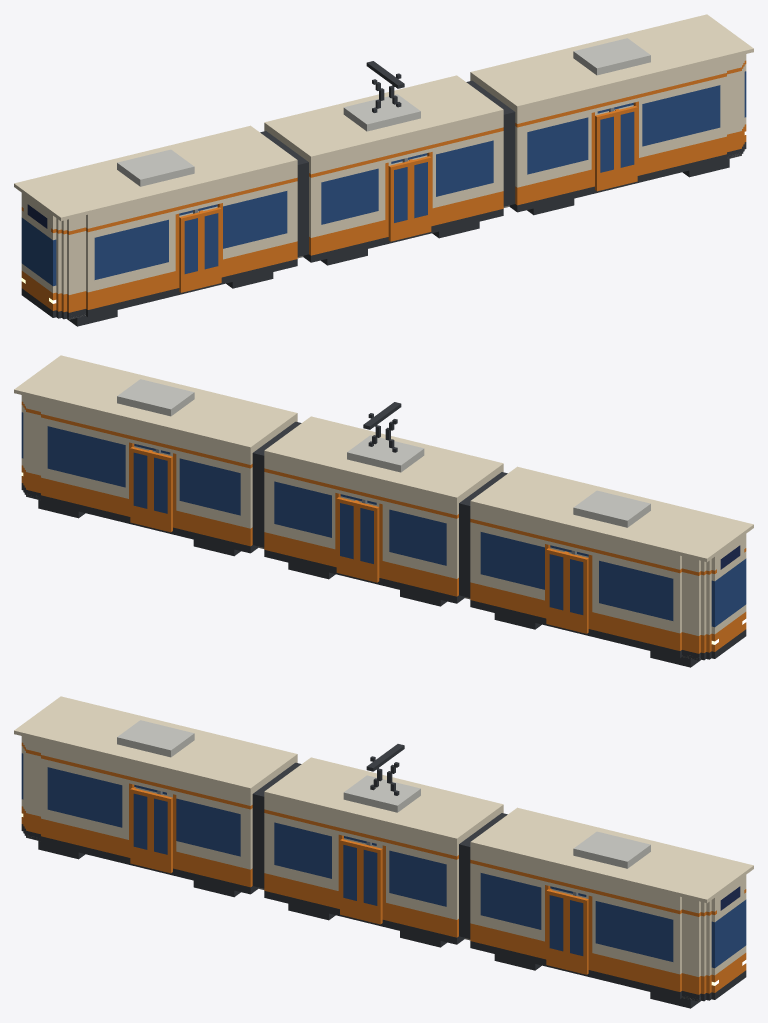
Rendered from tram.glb.
The picture shows the model from 3 angles, top to bottom: view 1: azimuth 30°, elevation 25°; view 2: azimuth 150°, elevation 25°; view 3: azimuth 330°, elevation 25°; orthographic projection.
Parts seen in each view (by area): view 1: body, roof, door_right_0_aft, door_right_2_aft, door_right_1_aft, door_right_1_fore, door_right_2_fore, door_right_0_fore; view 2: body, roof, door_left_0_aft, door_left_2_aft, door_left_1_aft, door_left_1_fore, door_left_2_fore, door_left_0_fore; view 3: body, roof, door_right_0_fore, door_right_1_fore, door_right_2_fore, door_right_0_aft, door_right_1_aft, door_right_2_aft.
Boxes of the visible parts, box(x1,y1,x2,y2) form: body: box(21, 67, 746, 326); roof: box(14, 14, 753, 238); door_right_0_aft: box(595, 110, 617, 191); door_right_2_aft: box(179, 212, 201, 292); door_right_1_aft: box(388, 161, 410, 241); door_right_1_fore: box(409, 156, 431, 236); door_right_2_fore: box(200, 207, 221, 287); door_right_0_fore: box(616, 106, 637, 186); body: box(21, 408, 746, 667); roof: box(14, 355, 753, 579); door_left_0_aft: box(150, 451, 172, 532); door_left_2_aft: box(566, 553, 588, 633); door_left_1_aft: box(357, 502, 379, 582); door_left_1_fore: box(336, 497, 358, 577); door_left_2_fore: box(546, 548, 567, 628); door_left_0_fore: box(130, 447, 151, 527); body: box(21, 749, 746, 1008); roof: box(14, 696, 753, 920); door_right_0_fore: box(566, 894, 588, 974); door_right_1_fore: box(360, 844, 382, 924); door_right_2_fore: box(150, 792, 172, 873); door_right_0_aft: box(546, 889, 567, 969); door_right_1_aft: box(340, 839, 361, 919); door_right_2_aft: box(130, 788, 151, 868).
Size of the model in its own units: 20.5 by 4.5 by 2.6.
